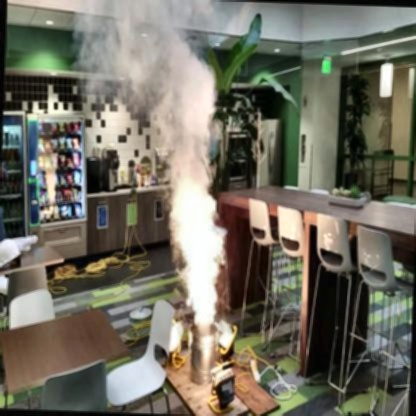smoke: (177, 177, 222, 321)
